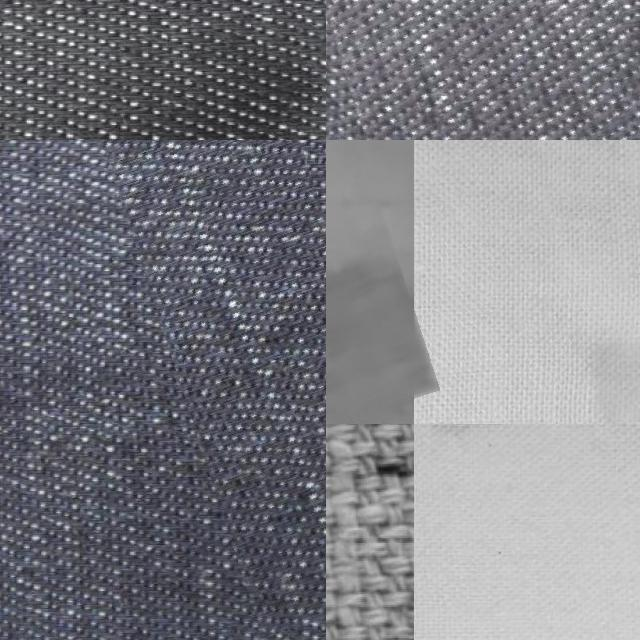Hole: (326, 211, 427, 435)
Thread_other: (122, 140, 326, 631), (326, 0, 626, 140)
